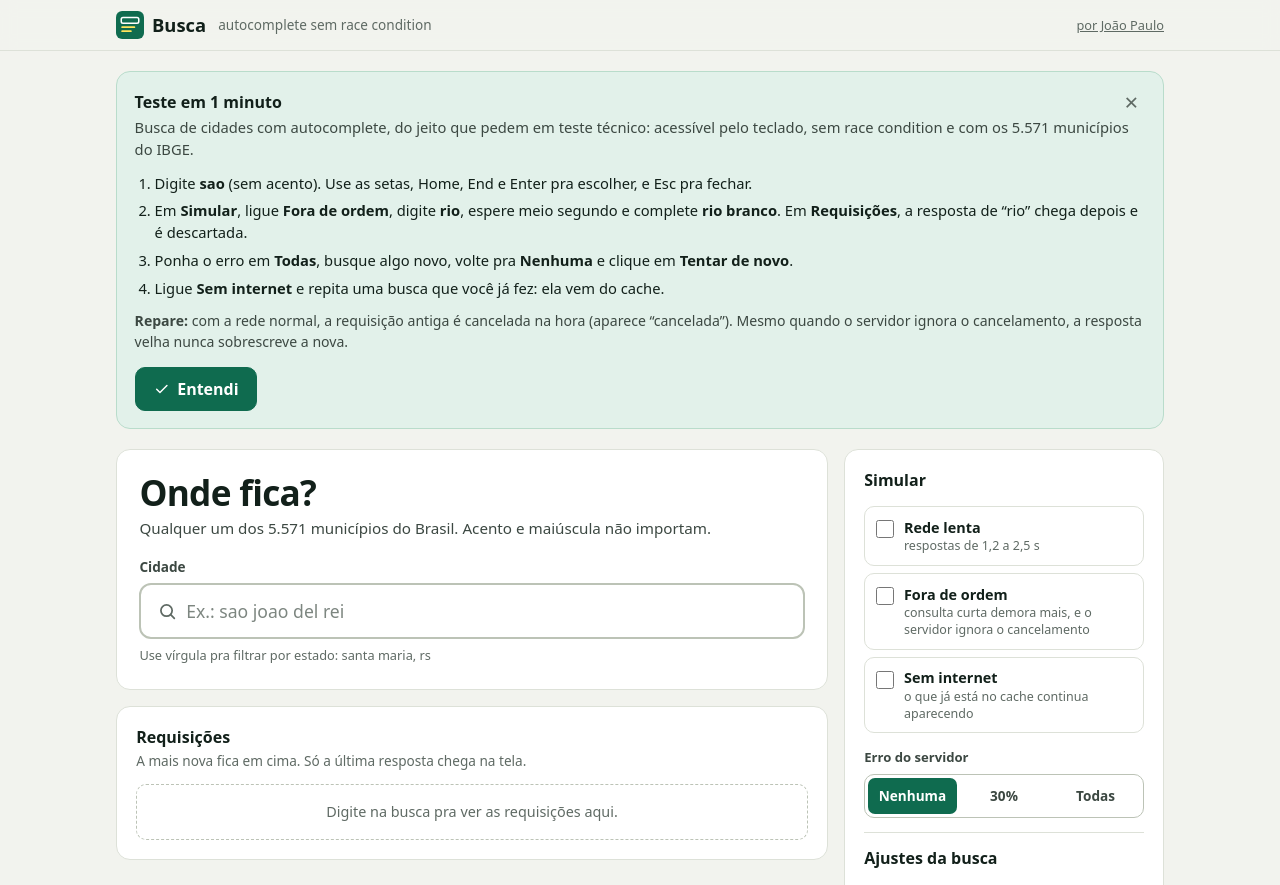
Test: tela de busca › o guia abre na primeira visita, fecha lembrando no aparelho e volta pelo "Como testar"
The image size is (1280, 885).
Expected: the heading "Teste em 1 minuto" is shown, x1=135 y1=90 x2=282 y2=114
What coordinates should you click on to do the following:
click the button "Entendi"
I would click on:
 (196, 389)
Its box is x1=135 y1=367 x2=257 y2=411.
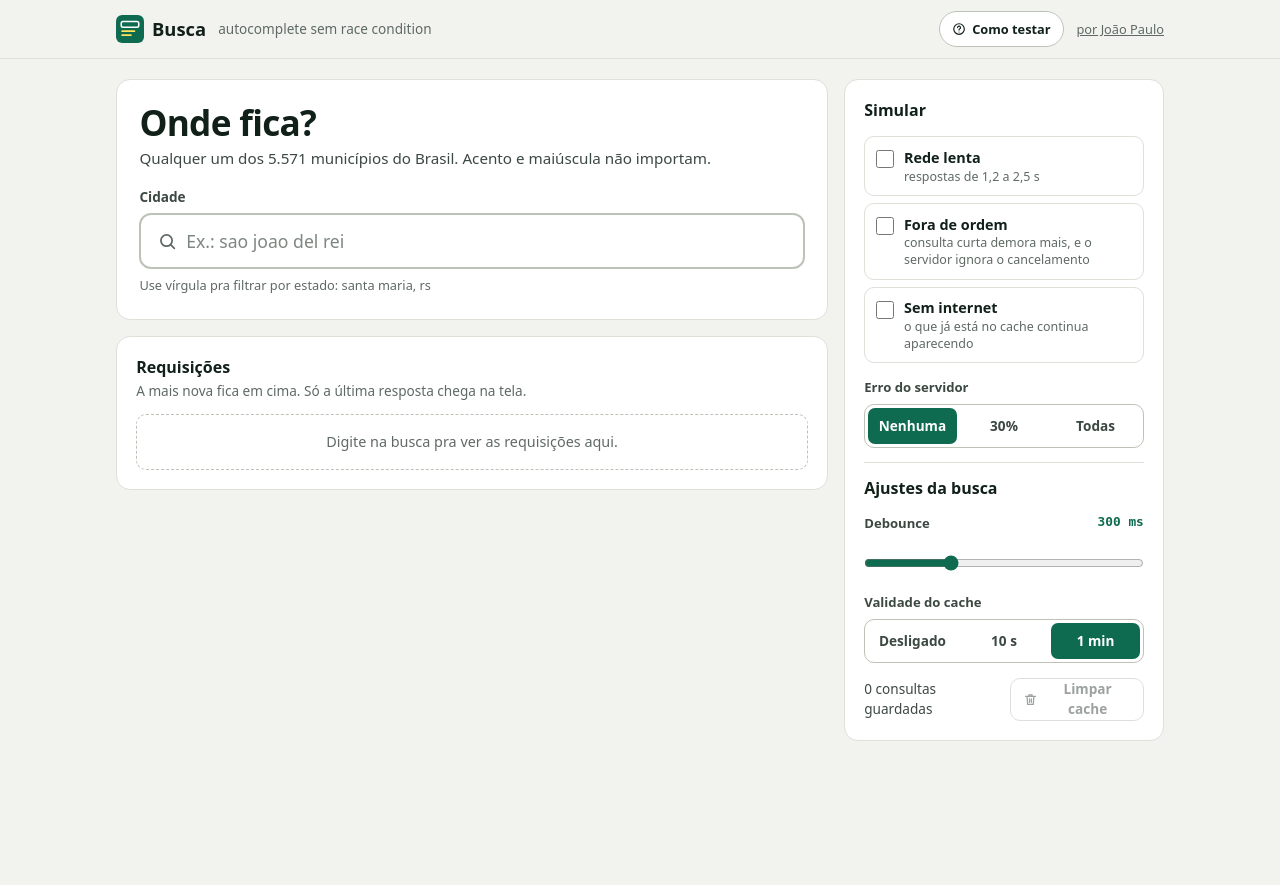
Result: the heading "Teste em 1 minuto" is gone
What coordinates should you click on to do the following:
click the button "Como testar"
I would click on:
 (1002, 29)
Its box is x1=939 y1=11 x2=1064 y2=47.
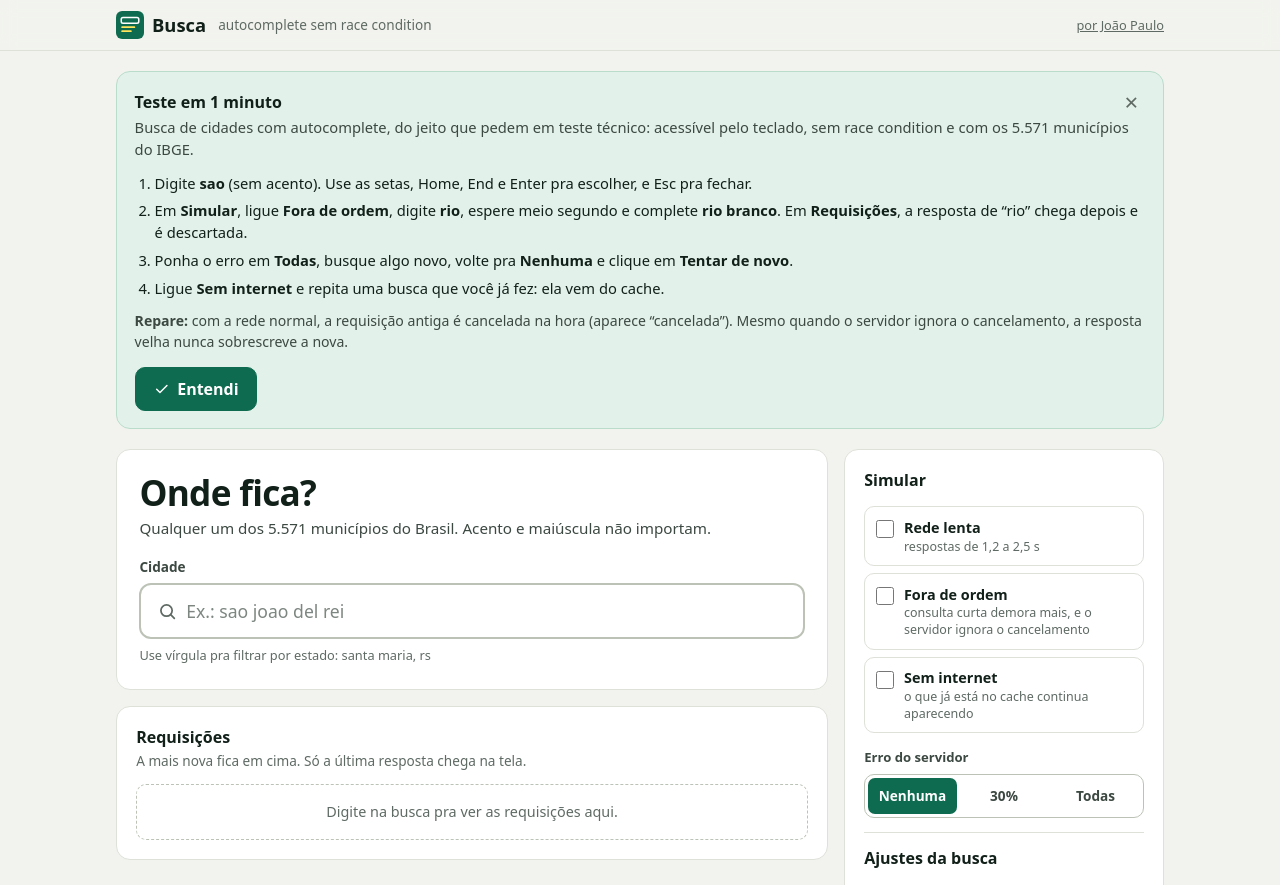
Result: the heading "Teste em 1 minuto" is shown at x1=135 y1=90 x2=282 y2=114
